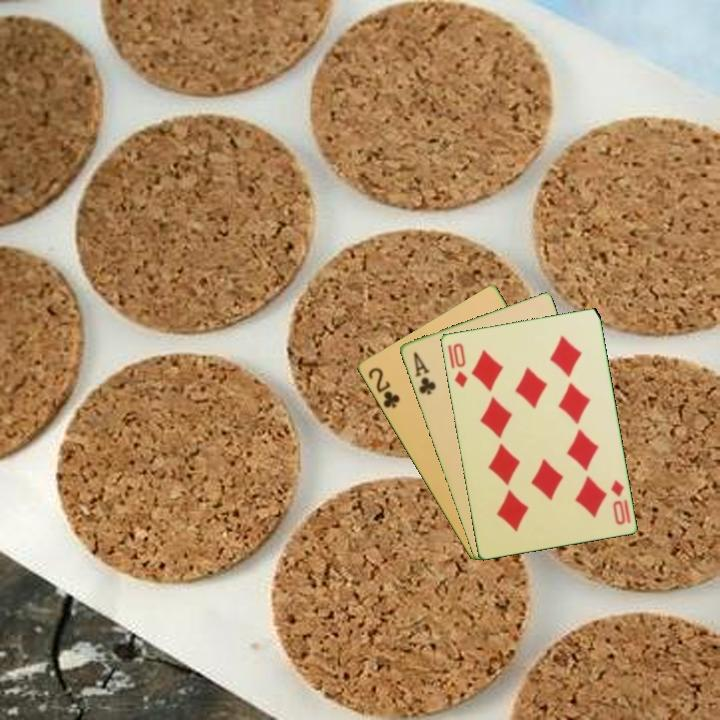10d: (607, 476, 628, 528), (449, 339, 470, 390)
2c: (364, 364, 402, 411)
Ac: (409, 348, 439, 398)
